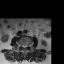CCS_severe_stenosis: (24, 43, 25, 50)
LFS_stenosis: (27, 43, 28, 48)
LLS_normal: (25, 43, 27, 49)
RFS_stenosis: (20, 43, 22, 48)
RLS_stenosis: (22, 43, 24, 49)
